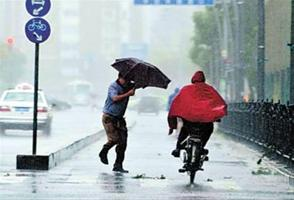person: (100, 72, 143, 173)
